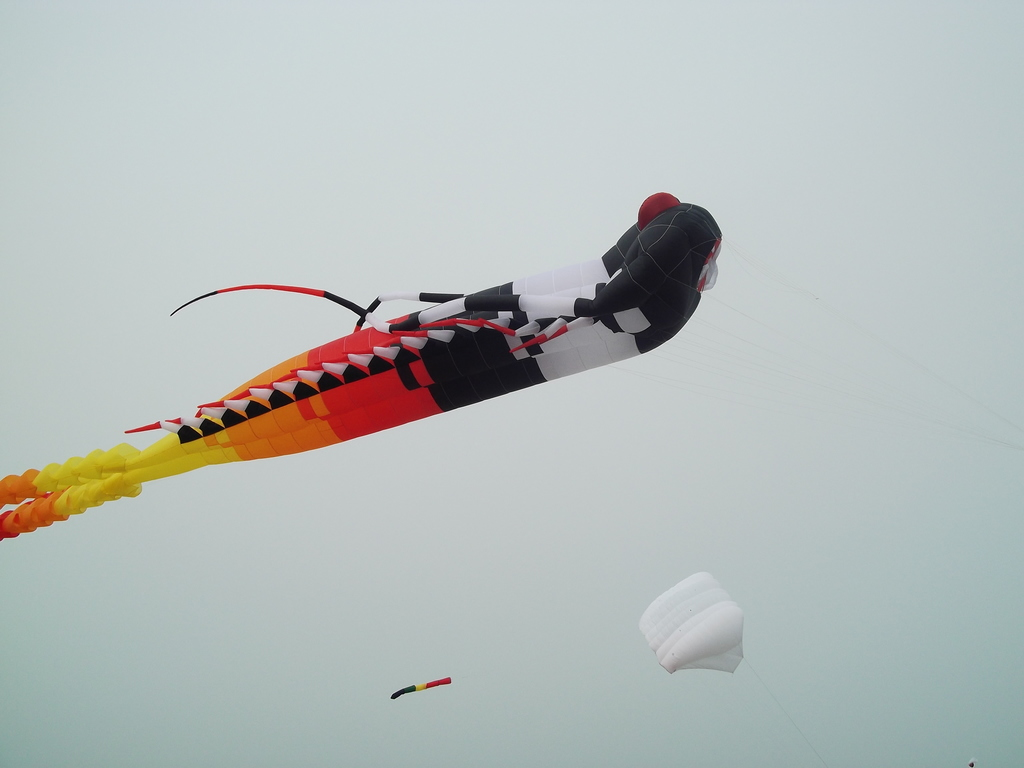kite: (1, 189, 743, 542), (316, 567, 767, 718)
